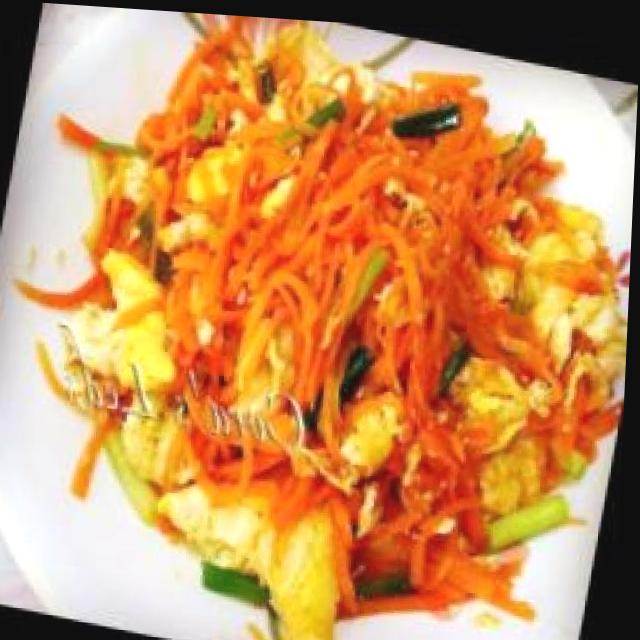carrot_eggs: (55, 19, 639, 612)
